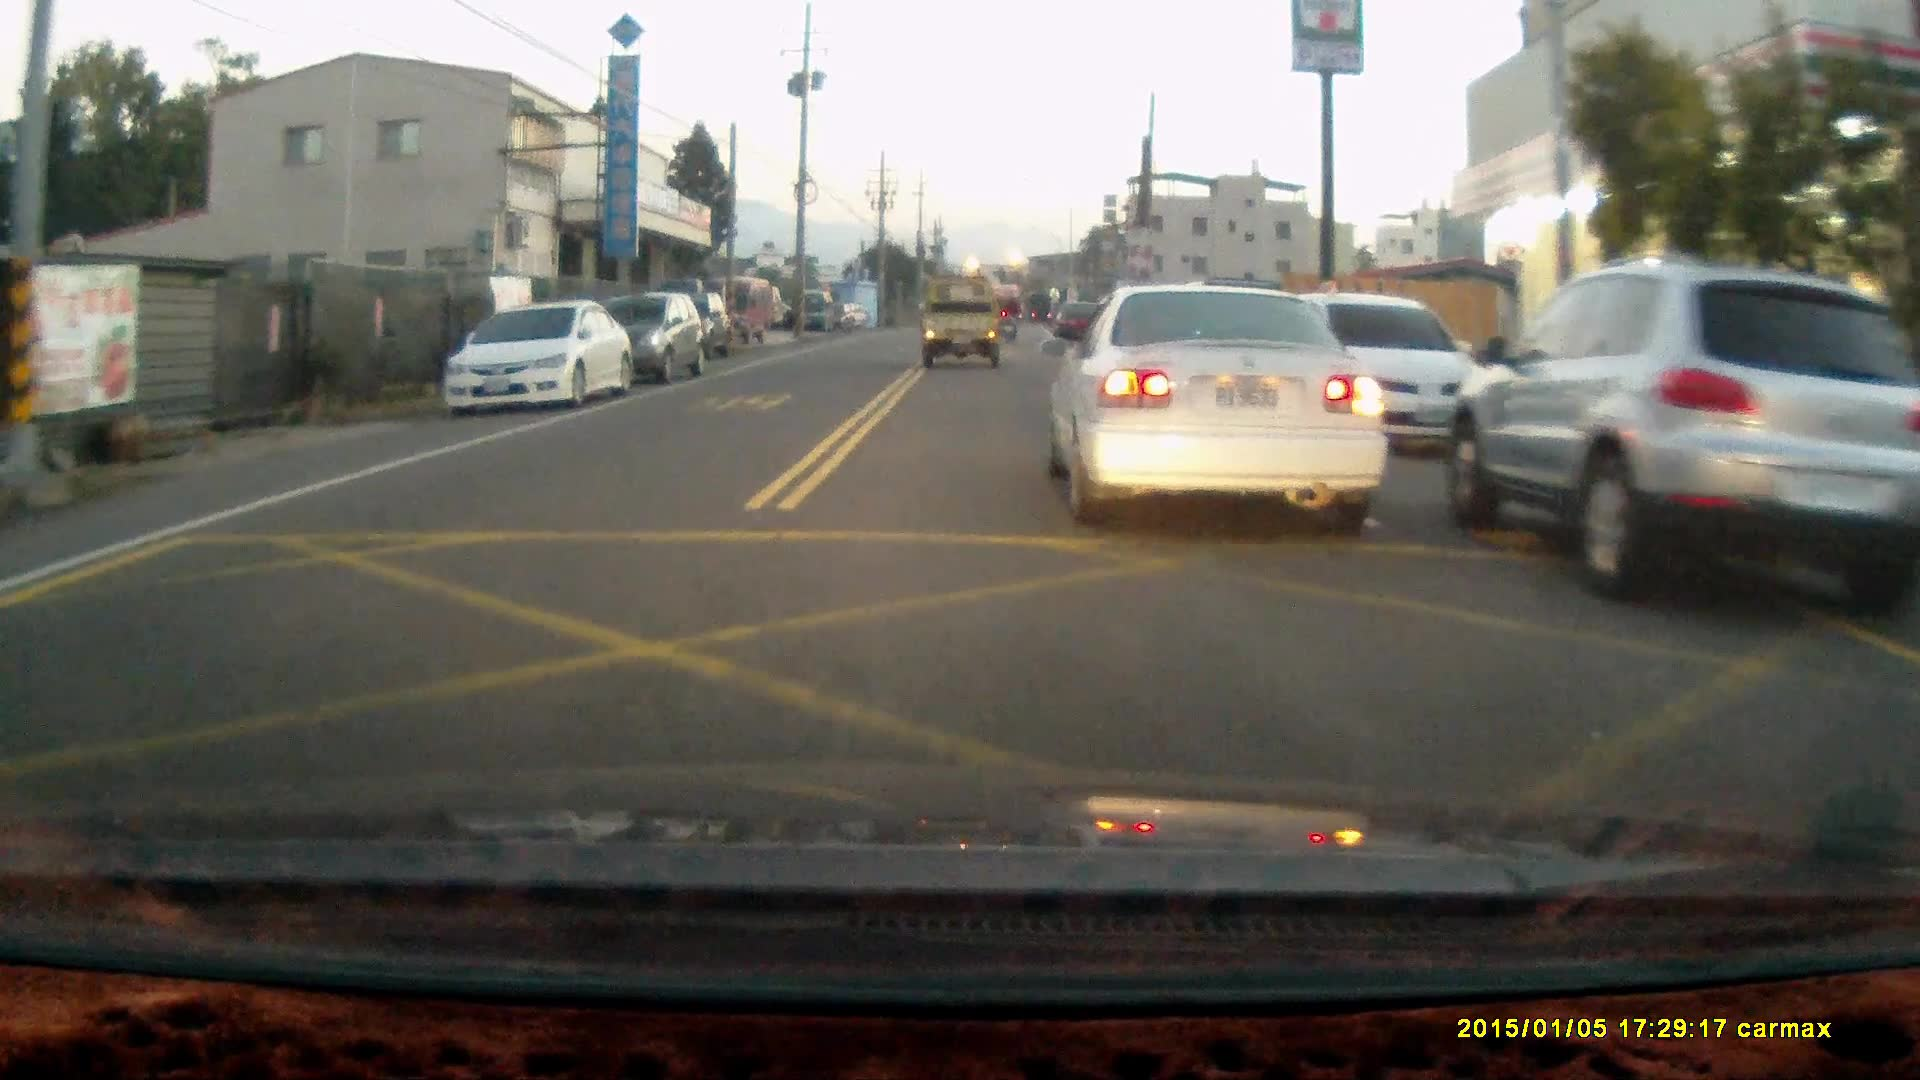rider: (995, 291, 1021, 340)
vehicle: (1445, 263, 1920, 615), (1052, 279, 1388, 521), (1269, 288, 1496, 461), (443, 294, 633, 418), (586, 294, 709, 387), (632, 280, 736, 361), (921, 271, 1009, 367), (715, 273, 780, 342)
